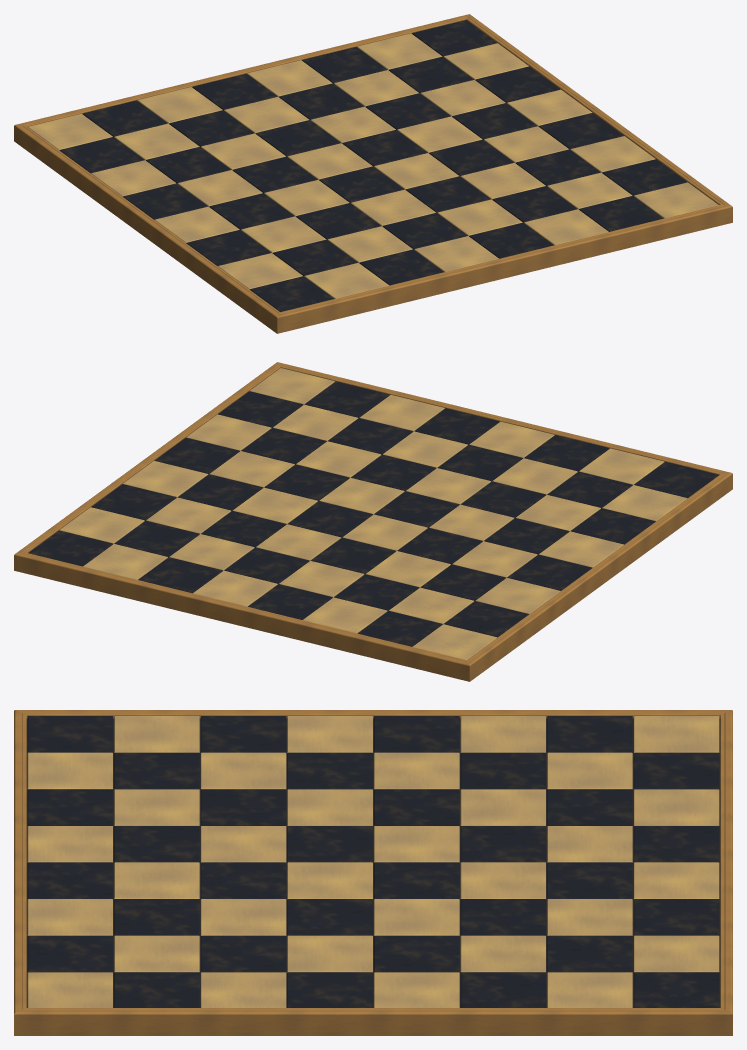
The model's file is zlata_chessboard.glb.
3 renders of one model, top to bottom at view 1: azimuth 30°, elevation 25°; view 2: azimuth 150°, elevation 25°; view 3: azimuth 270°, elevation 25°, orthographic. The views are drawn at different scales.
Visible parts, largest first — view 1: Squares_Dark, Squares_Brass, Frame; view 2: Squares_Brass, Squares_Dark, Frame; view 3: Squares_Brass, Squares_Dark, Frame, Joint_Floor.
Part boxes in pixels (<box>): Squares_Dark: <box>59,20,687,311</box>; Squares_Brass: <box>28,33,718,298</box>; Frame: <box>14,14,732,333</box>; Squares_Brass: <box>59,368,687,659</box>; Squares_Dark: <box>28,381,718,646</box>; Frame: <box>14,362,732,681</box>; Squares_Brass: <box>27,716,719,1007</box>; Squares_Dark: <box>27,716,719,1007</box>; Frame: <box>14,710,732,1035</box>; Joint_Floor: <box>26,718,720,1007</box>.
Size of the model in its own units: 0.4 by 0.014 by 0.4.
Materials: 4 (3 with a texture image).
